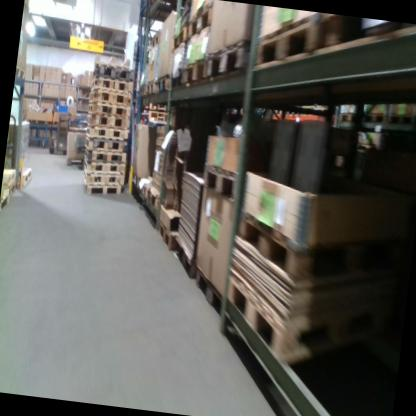pallet: (217, 270, 366, 373), (231, 205, 372, 290), (250, 12, 317, 75), (190, 261, 229, 318), (315, 13, 366, 52), (202, 35, 247, 79), (201, 163, 239, 199), (172, 238, 198, 281), (155, 222, 183, 257), (181, 52, 209, 86), (188, 1, 213, 39), (83, 145, 125, 164), (90, 76, 130, 95), (88, 89, 128, 107), (88, 100, 128, 118), (86, 112, 126, 130), (84, 135, 126, 152), (82, 158, 123, 174), (0, 179, 17, 216), (92, 65, 131, 81), (85, 125, 126, 140), (82, 182, 122, 197), (82, 171, 124, 185), (170, 20, 187, 53), (153, 72, 177, 94), (144, 187, 164, 211), (18, 160, 35, 187), (144, 78, 164, 92), (134, 182, 150, 198), (150, 30, 160, 48), (15, 66, 26, 79)
pallet_truck: (42, 101, 69, 157)
